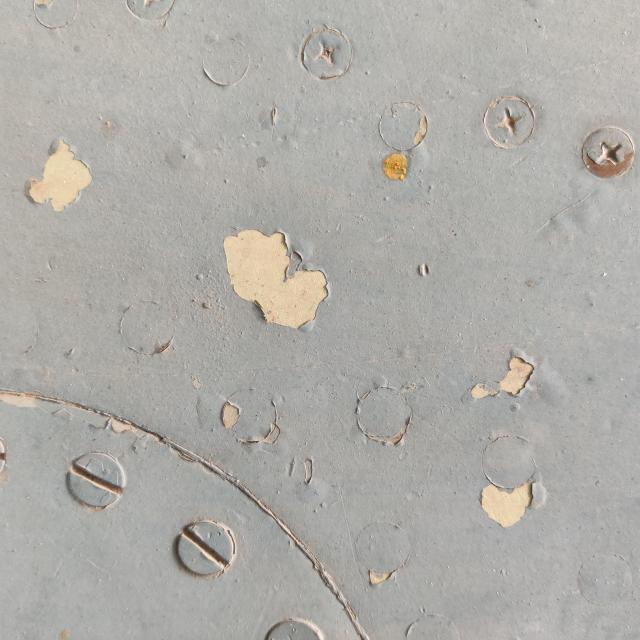paint-off: (203, 288, 350, 433), (124, 531, 228, 625), (335, 90, 418, 184), (461, 88, 542, 179)
